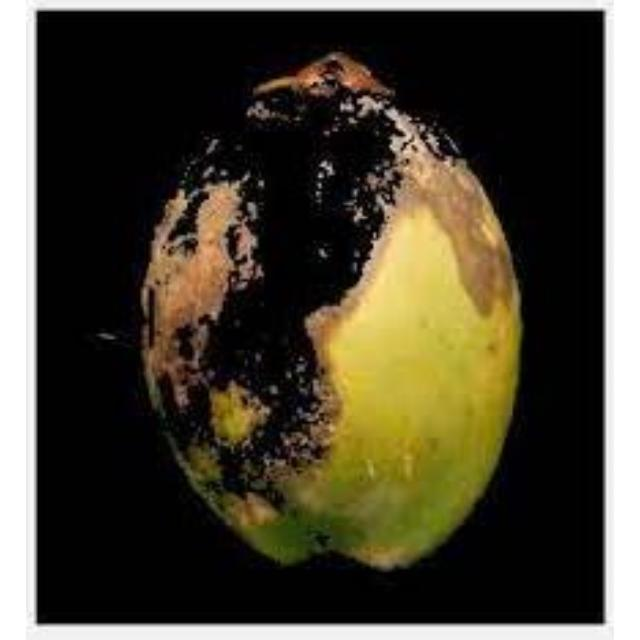damaged: (141, 52, 518, 566)
